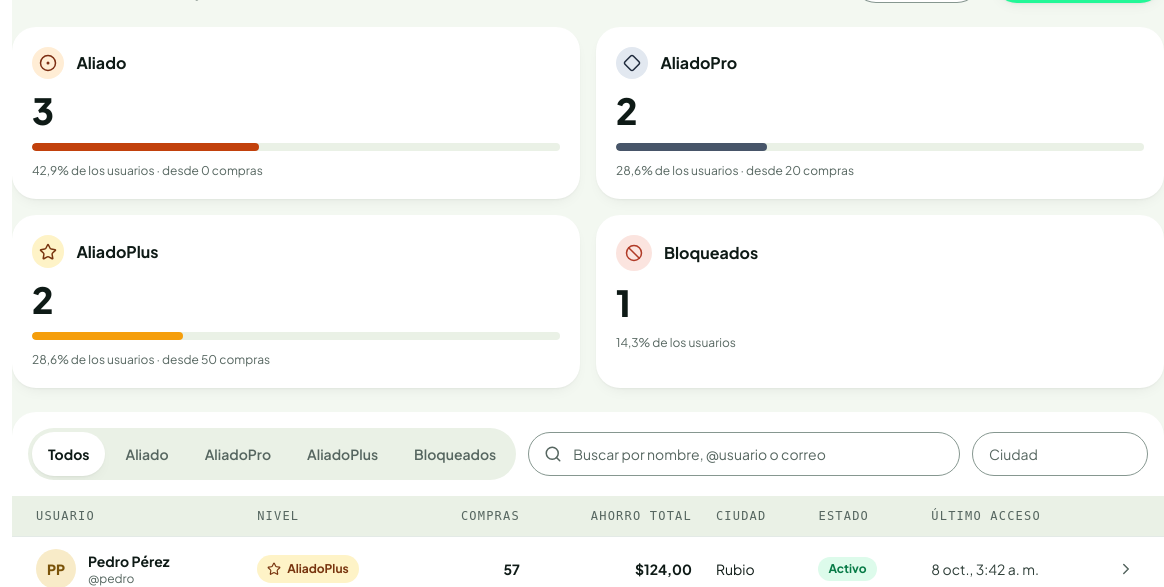
Test: B05 usuarios › sin resultados con filtros ofrece quitarlos
The width and height of the screenshot is (1164, 587).
expect the text "Pedro Pérez" is shown: met, box [88,551,170,571]
Click the tab "AliadoPro". click: (238, 454)
box: [189,432,287,476]
(page scrolled)
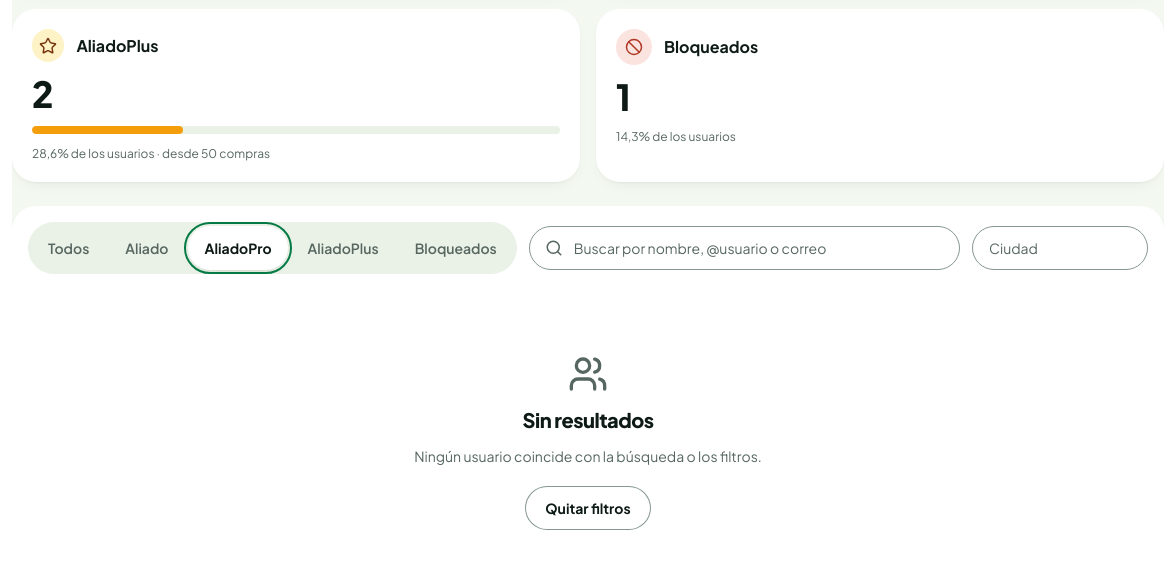
expect the heading "Sin resultados" is shown: met, box [522,406,654,434]
Click the button "Quitar filtros". click: (588, 508)
box: [525,486,651,530]
(page scrolled)
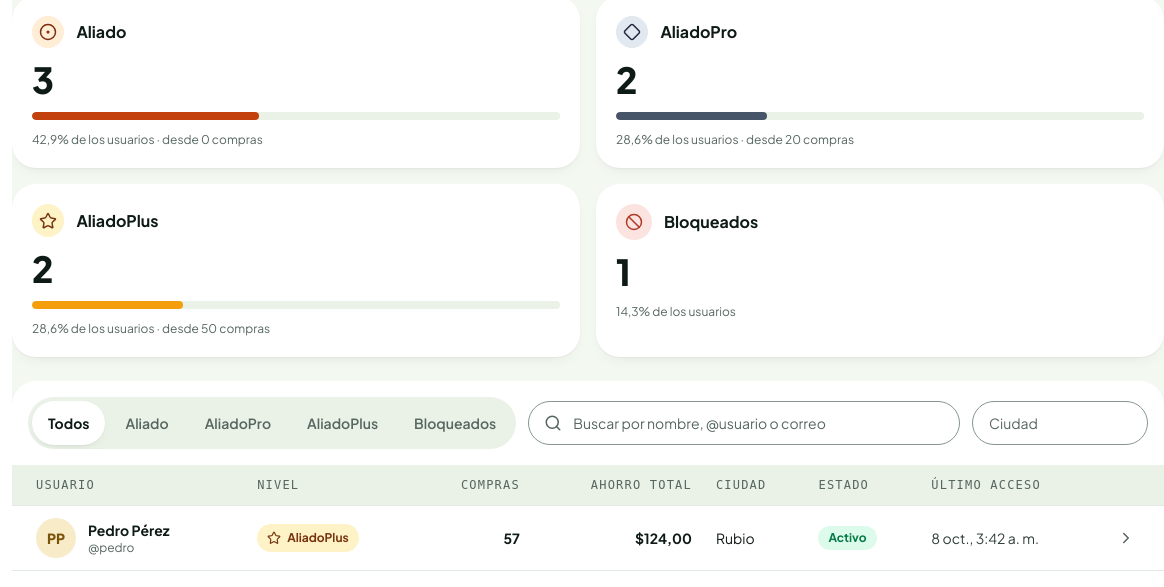
expect the text "Pedro Pérez" is shown: met, box [88,520,170,540]
